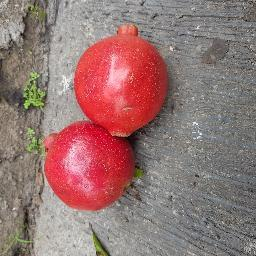Good_pomegranate: (72, 22, 173, 134), (44, 124, 144, 211)
